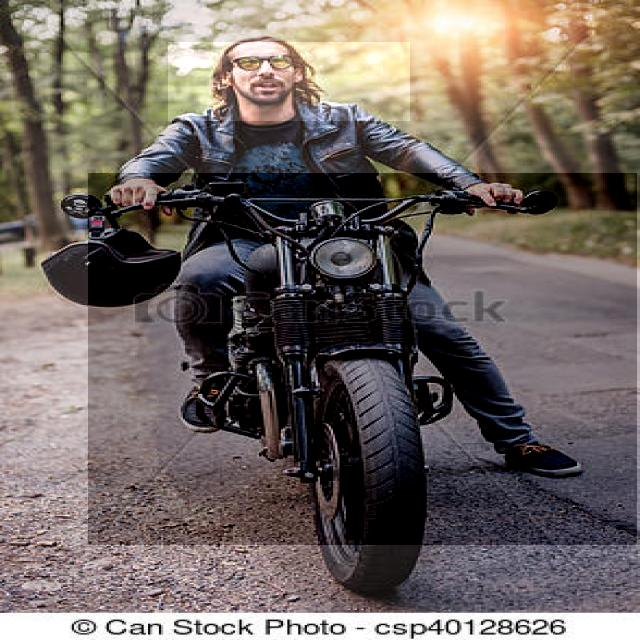Bike: (88, 174, 637, 546)
No_Helmet: (168, 42, 410, 121)
